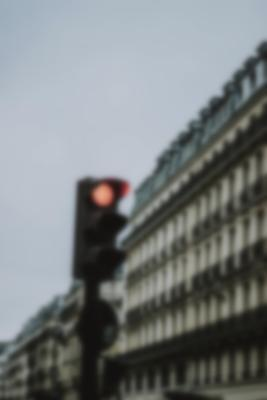International Road Signal Light: (75, 178, 129, 281)
